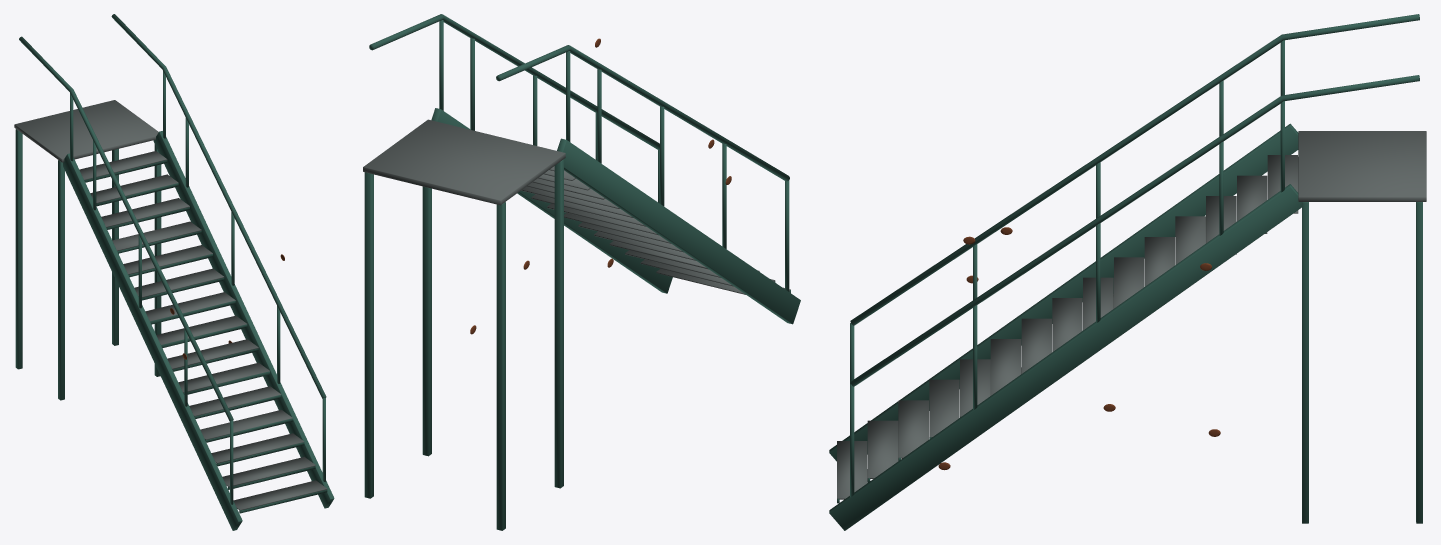
The model's file is cau_thang_253_323_95.glb.
3 views of the same model, side by side, from view 1: azimuth 30°, elevation 25°; view 2: azimuth 150°, elevation 25°; view 3: azimuth 270°, elevation 25° (orthographic). The views are drawn at different scales.
Visible parts, largest first — view 1: cau_thang_253_323_95; view 2: cau_thang_253_323_95; view 3: cau_thang_253_323_95.
Boxes of the visible parts, x1,y1,x2,y2 form: cau_thang_253_323_95: (14, 14, 334, 530); cau_thang_253_323_95: (363, 14, 800, 530); cau_thang_253_323_95: (829, 14, 1426, 530).
Size of the model in its own units: 1.1 by 3.51 by 4.19.
